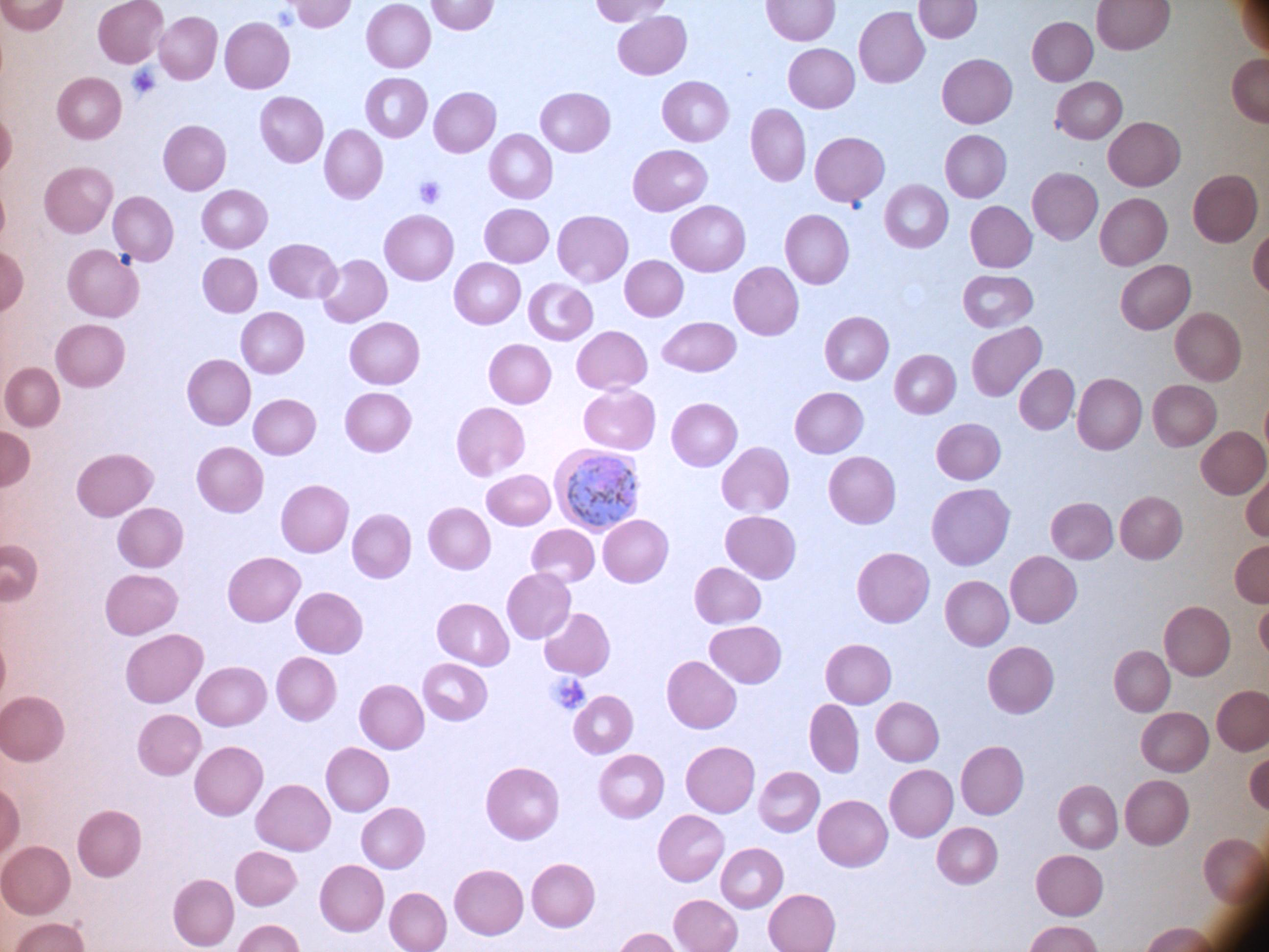Infected: (555, 448, 641, 534)
Uninfected: (931, 489, 1007, 564), (125, 633, 204, 705), (485, 768, 560, 841), (254, 782, 331, 853), (76, 453, 155, 520), (193, 746, 266, 818), (683, 746, 755, 816), (970, 327, 1043, 396), (670, 205, 745, 272), (106, 574, 181, 641), (1, 846, 72, 916), (856, 554, 928, 623), (227, 557, 302, 623), (557, 215, 629, 283), (453, 870, 525, 938), (1106, 122, 1180, 188), (436, 602, 511, 667), (280, 485, 350, 554), (456, 408, 526, 477), (67, 249, 138, 317), (814, 137, 885, 205), (658, 813, 726, 884), (816, 800, 887, 868), (54, 324, 127, 390), (1009, 555, 1078, 624), (1099, 198, 1168, 267), (45, 167, 115, 235), (858, 13, 926, 83), (667, 662, 738, 729), (1162, 606, 1229, 677), (723, 515, 795, 581), (633, 150, 707, 214), (194, 666, 268, 730), (324, 747, 392, 816), (384, 214, 455, 280), (825, 456, 894, 523), (888, 769, 955, 838), (1075, 379, 1141, 449), (941, 59, 1011, 125), (506, 573, 574, 640), (1173, 312, 1240, 380), (196, 447, 265, 513), (357, 685, 426, 751), (352, 317, 417, 387), (1120, 265, 1190, 330), (986, 646, 1053, 713), (224, 21, 291, 88), (943, 580, 1011, 646), (319, 865, 385, 933), (1191, 175, 1257, 243), (116, 506, 185, 571), (784, 215, 849, 284), (260, 95, 325, 164), (76, 810, 141, 879), (960, 747, 1024, 817), (708, 624, 781, 685), (187, 359, 254, 425), (1032, 174, 1099, 240), (1199, 429, 1265, 496), (0, 696, 66, 763), (720, 448, 788, 513), (794, 392, 863, 456), (540, 93, 612, 154), (487, 134, 554, 199), (111, 195, 176, 262), (163, 125, 228, 192), (596, 754, 663, 819), (364, 76, 431, 141), (294, 591, 362, 655), (601, 519, 669, 583), (542, 611, 610, 675), (453, 262, 522, 325), (694, 566, 764, 628), (575, 329, 646, 390), (583, 391, 654, 452), (733, 268, 799, 333), (1151, 384, 1217, 449), (944, 134, 1010, 199), (873, 699, 939, 764), (433, 92, 500, 156), (136, 714, 203, 778), (824, 643, 891, 707), (155, 15, 220, 80), (968, 204, 1033, 269), (1124, 779, 1189, 844), (240, 311, 306, 375), (276, 656, 340, 722), (823, 317, 889, 381), (324, 259, 390, 323), (361, 807, 427, 871), (718, 847, 784, 911), (366, 4, 432, 68), (660, 80, 728, 142), (787, 48, 855, 110), (1035, 854, 1103, 916), (324, 129, 385, 198), (422, 662, 491, 723), (617, 16, 687, 76), (57, 77, 122, 141), (427, 507, 493, 570), (670, 404, 738, 465), (933, 422, 1001, 483), (530, 864, 594, 928), (883, 184, 948, 247), (201, 189, 267, 251), (1056, 785, 1118, 851), (98, 2, 164, 64), (173, 880, 235, 946), (1140, 712, 1207, 773), (483, 207, 552, 266), (750, 109, 807, 180), (1119, 497, 1183, 560), (487, 343, 552, 405), (1055, 80, 1122, 140), (234, 850, 301, 910), (661, 321, 735, 375), (350, 514, 413, 577), (527, 282, 593, 342), (963, 273, 1032, 330), (345, 395, 409, 456), (529, 528, 595, 587), (268, 243, 336, 300), (757, 771, 819, 833), (893, 354, 956, 415), (572, 695, 636, 755), (768, 894, 834, 952), (1032, 22, 1095, 82), (1050, 502, 1113, 561), (1018, 368, 1077, 430), (808, 702, 861, 771), (935, 826, 998, 884), (1096, 0, 1169, 50), (484, 473, 551, 527), (622, 259, 683, 318), (1113, 651, 1172, 712), (1203, 838, 1261, 900), (388, 893, 447, 952), (4, 367, 60, 428), (1213, 690, 1269, 751), (673, 899, 737, 952), (252, 402, 313, 457), (202, 256, 259, 313), (767, 0, 836, 41), (918, 0, 976, 40)
